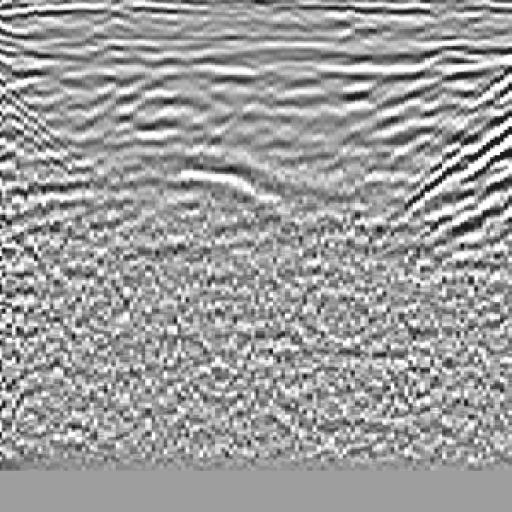metalic: (142, 49, 318, 257)
nonmetalic: (391, 39, 512, 278)
